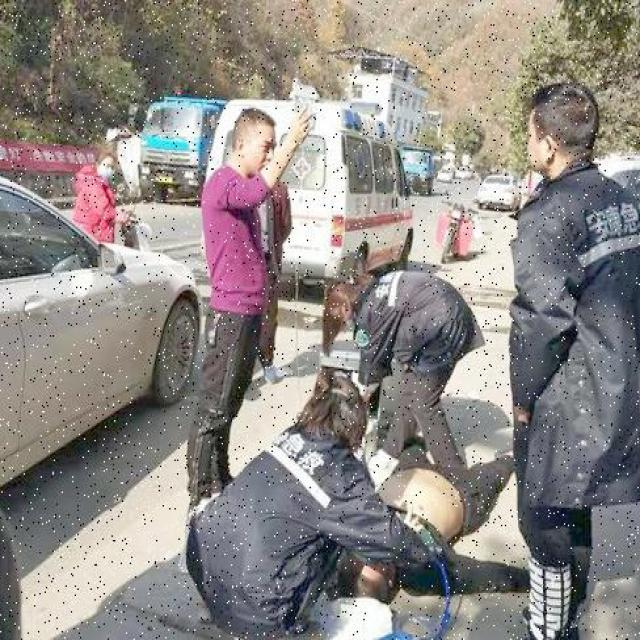fall: (347, 444, 516, 605)
